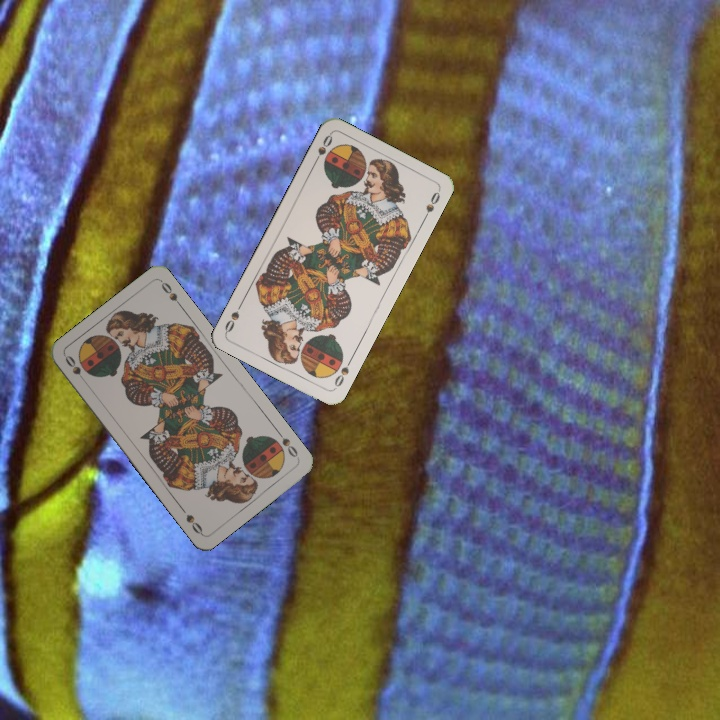SO: (61, 351, 90, 387), (273, 426, 301, 462), (309, 130, 335, 168), (330, 354, 355, 392)
